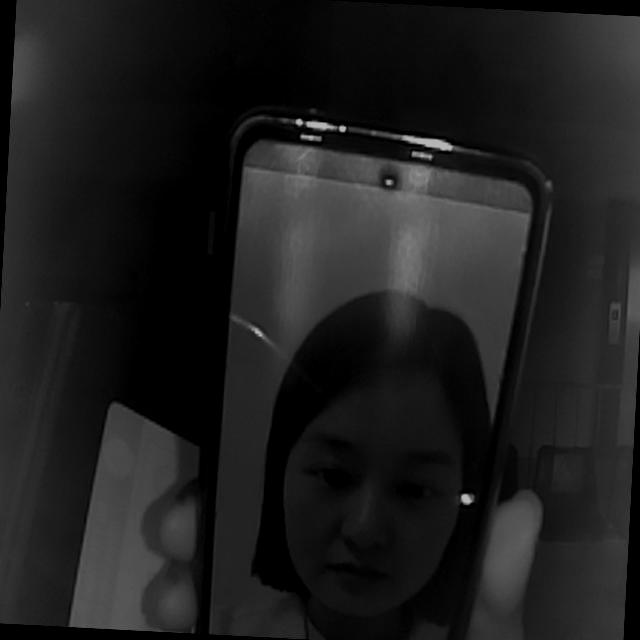fake: (191, 103, 562, 640)
